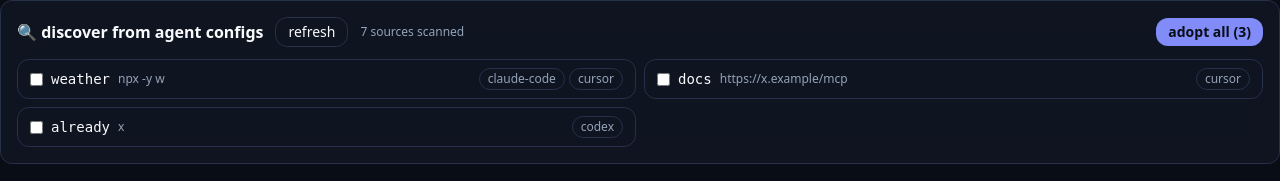
Test case: DiscoverPanel › imports only picked candidates and reports result
The image size is (1280, 181).
Expected: the text "weather" is shown, [51,69,110,89]
Click the text "docs".
click(695, 79)  # box [678,69,712,89]
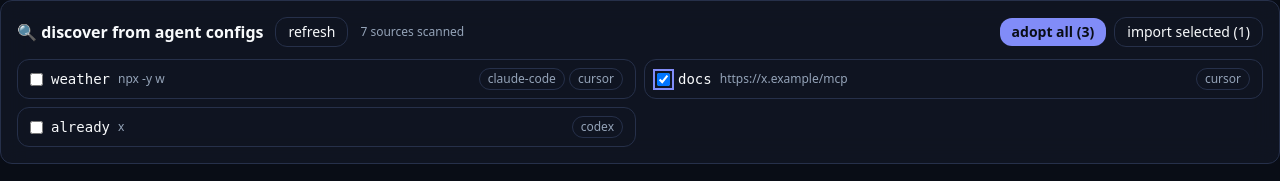
Click the button "import selected (1)".
click(1189, 32)  # box [1114,17,1263,47]
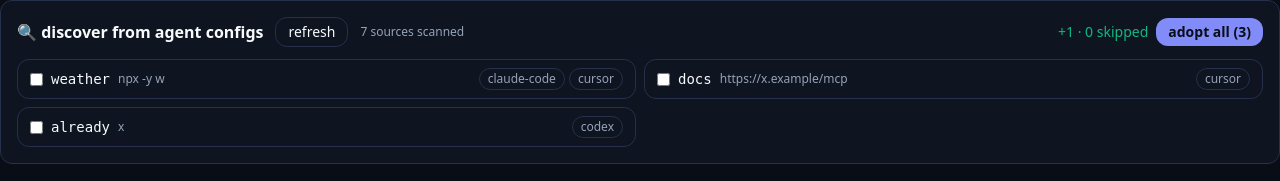
Expected: the text "+1 · 0 skipped" is shown, [1058,22,1148,42]
